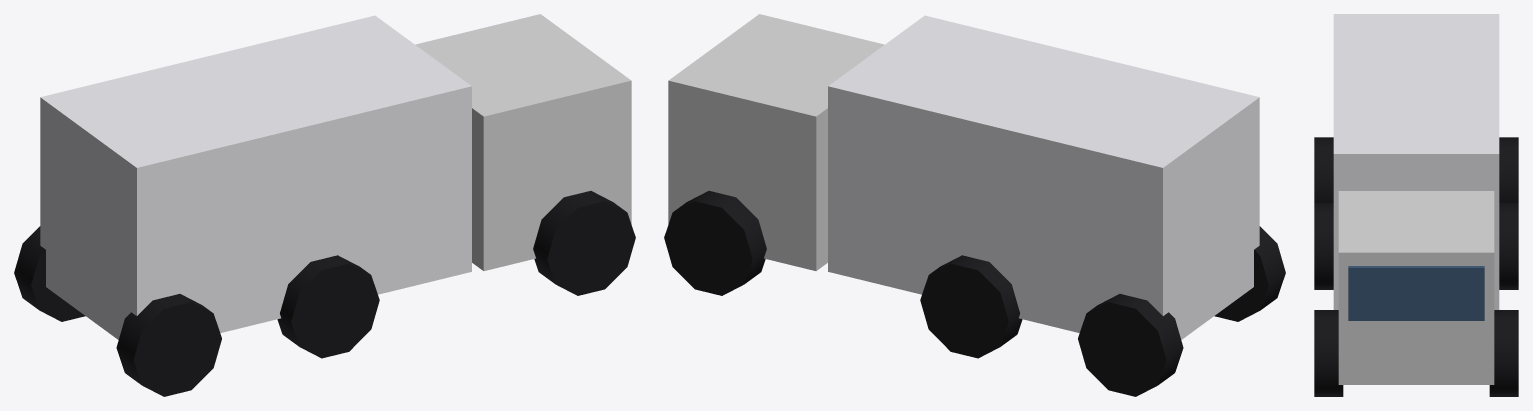
File: truck_1998.glb
The picture shows the model from 3 angles, left to right: view 1: azimuth 30°, elevation 25°; view 2: azimuth 150°, elevation 25°; view 3: azimuth 270°, elevation 25°; orthographic projection. The views are drawn at different scales.
Parts seen in each view (by area): view 1: Cargo, Cab, truck_w0_1, truck_w2_1, truck_w1_1, truck_w0_-1; view 2: Cargo, Cab, truck_w0_-1, truck_w2_-1, truck_w1_-1, truck_w0_1; view 3: Cargo, Cab, Windscreen, truck_w2_-1, truck_w2_1, truck_w1_-1, truck_w1_1, truck_w0_-1, truck_w0_1.
Boxes of the visible parts, x1,y1,x2,y2 form: Cargo: [40, 15, 471, 339]; Cab: [415, 14, 631, 270]; truck_w0_1: [116, 294, 221, 396]; truck_w2_1: [533, 191, 635, 295]; truck_w1_1: [277, 255, 379, 358]; truck_w0_-1: [14, 226, 85, 321]; Cargo: [828, 15, 1259, 339]; Cab: [668, 14, 884, 270]; truck_w0_-1: [1078, 294, 1183, 396]; truck_w2_-1: [664, 191, 766, 295]; truck_w1_-1: [920, 255, 1022, 358]; truck_w0_1: [1214, 226, 1285, 321]; Cargo: [1333, 14, 1499, 309]; Cab: [1338, 191, 1494, 384]; Windscreen: [1348, 266, 1484, 320]; truck_w2_-1: [1489, 310, 1518, 396]; truck_w2_1: [1314, 310, 1343, 396]; truck_w1_-1: [1499, 203, 1518, 289]; truck_w1_1: [1314, 203, 1333, 289]; truck_w0_-1: [1499, 137, 1518, 202]; truck_w0_1: [1314, 137, 1333, 202].
Size of the model in its own units: 0.525 by 0.2178 by 0.21.
